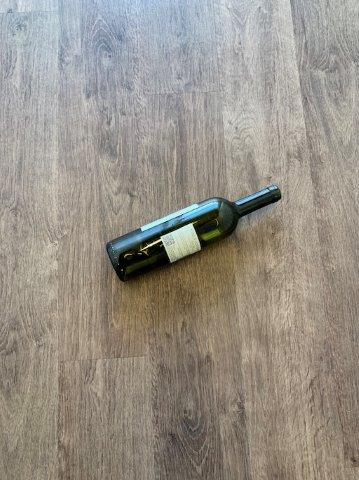botolkaca: (104, 185, 283, 280)
